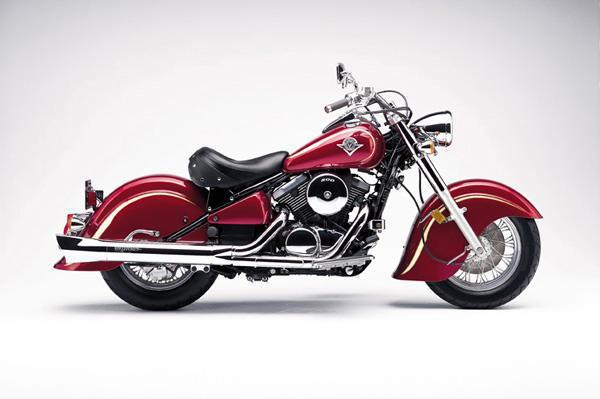motorcycle: (49, 62, 549, 318)
